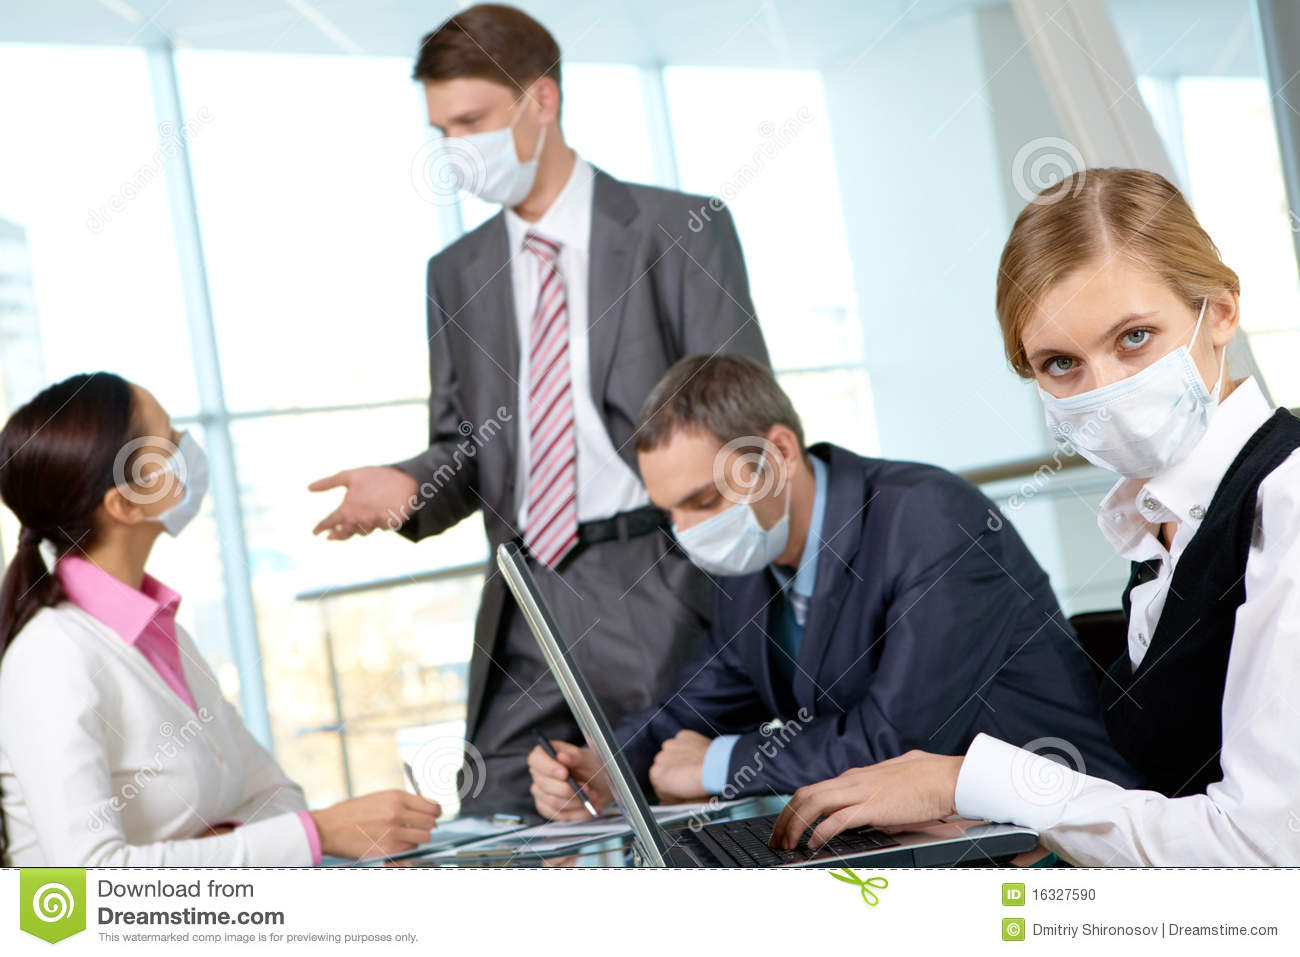mask: (1036, 349, 1220, 477)
